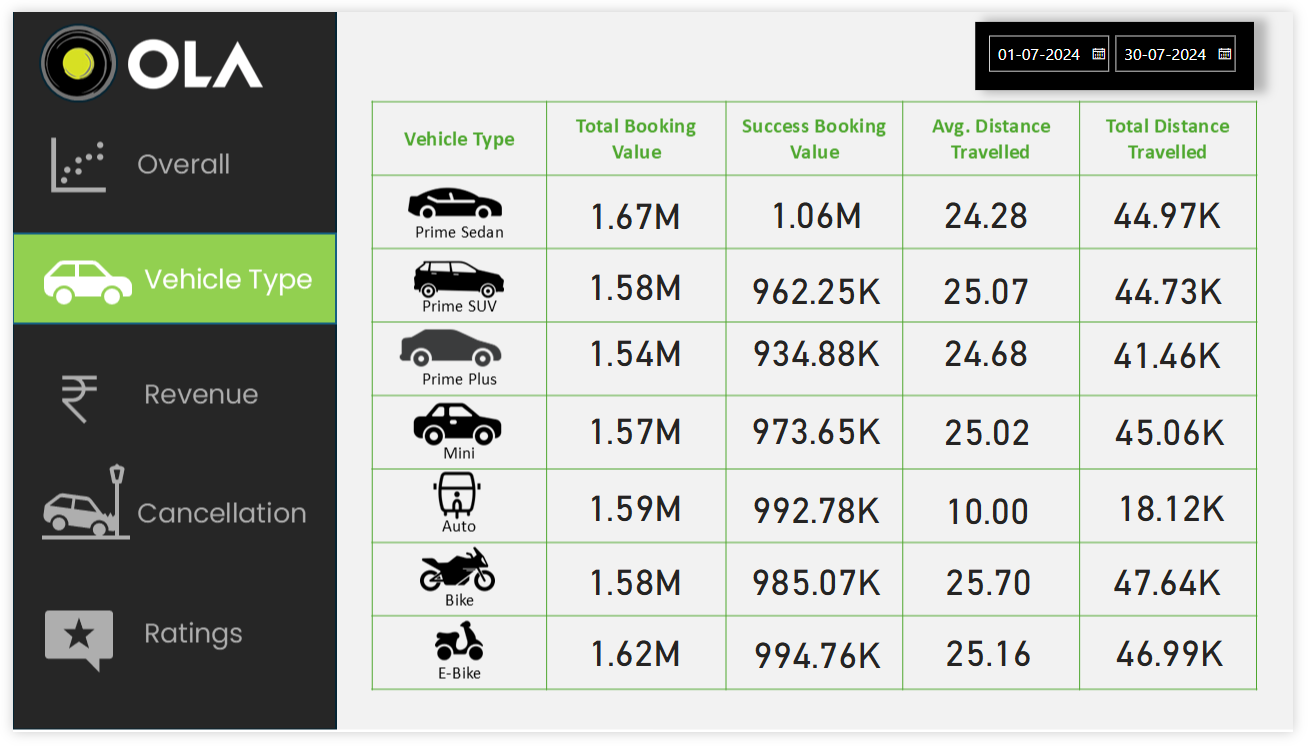

This screenshot's page, from the dashboard's own definition file:
{"tool":"powerbi","page":{"name":"Vehicle Type","canvas":[1280,720],"ordinal":1},"visuals":[{"type":"actionButton","box":[0,338,325.3,89.9],"z":0},{"type":"actionButton","box":[0,579.7,325.3,89.9],"z":1000},{"type":"actionButton","box":[1.3,446.8,325.3,89.9],"z":2000},{"type":"actionButton","box":[1.3,110.1,325.3,89.9],"z":3000},{"type":"card","fields":{"Values":["Sum(July.Booking_Value)"]},"box":[538,169.6,168.4,62],"z":4000},{"type":"card","fields":{"Values":["Sum(July.Booking_Value)"]},"box":[538,241.8,168.4,62],"z":5000},{"type":"card","fields":{"Values":["Sum(July.Booking_Value)"]},"box":[538,607.6,168.4,62],"z":6000},{"type":"card","fields":{"Values":["Sum(July.Booking_Value)"]},"box":[538,536.7,168.4,62],"z":7000},{"type":"card","fields":{"Values":["Sum(July.Booking_Value)"]},"box":[538,462,168.4,62],"z":8000},{"type":"card","fields":{"Values":["Sum(July.Booking_Value)"]},"box":[538,384.8,168.4,62],"z":9000},{"type":"card","fields":{"Values":["Sum(July.Booking_Value)"]},"box":[538,307.6,168.4,62],"z":10000},{"type":"card","fields":{"Values":["Sum(July.Booking_Value)"]},"box":[719,168.4,168.4,62],"z":11000},{"type":"card","fields":{"Values":["Sum(July.Booking_Value)"]},"box":[719,245.6,168.4,62],"z":12000},{"type":"card","fields":{"Values":["Sum(July.Booking_Value)"]},"box":[719,307.6,168.4,62],"z":13000},{"type":"card","fields":{"Values":["Sum(July.Booking_Value)"]},"box":[719,384.8,168.4,62],"z":14000},{"type":"card","fields":{"Values":["Sum(July.Booking_Value)"]},"box":[719,463.3,168.4,62],"z":15000},{"type":"card","fields":{"Values":["Sum(July.Booking_Value)"]},"box":[719,536.7,168.4,62],"z":16000},{"type":"card","fields":{"Values":["Sum(July.Booking_Value)"]},"box":[720.3,608.9,168.4,62],"z":17000},{"type":"card","fields":{"Values":["Avg(July.Ride_Distance)"]},"box":[888.6,168.4,168.4,62],"z":18000},{"type":"card","fields":{"Values":["Avg(July.Ride_Distance)"]},"box":[888.6,245.6,168.4,62],"z":19000},{"type":"card","fields":{"Values":["Avg(July.Ride_Distance)"]},"box":[888.6,307.6,168.4,62],"z":20000},{"type":"card","fields":{"Values":["Avg(July.Ride_Distance)"]},"box":[889.9,386.1,168.4,62],"z":21000},{"type":"card","fields":{"Values":["Avg(July.Ride_Distance)"]},"box":[889.9,464.6,168.4,62],"z":22000},{"type":"card","fields":{"Values":["Avg(July.Ride_Distance)"]},"box":[891.1,536.7,168.4,62],"z":23000},{"type":"card","fields":{"Values":["Avg(July.Ride_Distance)"]},"box":[891.1,607.6,168.4,62],"z":24000},{"type":"card","fields":{"Values":["Sum(July.Ride_Distance)"]},"box":[1069.6,168.4,168.4,62],"z":25000},{"type":"card","fields":{"Values":["Sum(July.Ride_Distance)"]},"box":[1070.9,245.6,168.4,62],"z":26000},{"type":"card","fields":{"Values":["Sum(July.Ride_Distance)"]},"box":[1069.6,308.9,168.4,62],"z":27000},{"type":"card","fields":{"Values":["Sum(July.Ride_Distance)"]},"box":[1072.2,386.1,168.4,62],"z":28000},{"type":"card","fields":{"Values":["Sum(July.Ride_Distance)"]},"box":[1073.4,462,168.4,62],"z":29000},{"type":"card","fields":{"Values":["Sum(July.Ride_Distance)"]},"box":[1069.6,536.7,168.4,62],"z":30000},{"type":"card","fields":{"Values":["Sum(July.Ride_Distance)"]},"box":[1072.2,607.6,168.4,62],"z":31000},{"type":"slicer","title":"Date","fields":{"Values":["July.Date"]},"box":[962,10.1,278.5,68.4],"z":32000}]}

Visuals, with their boxes on the page's 1280x720 design canvas (x1, y1, x2, y2). These are canvas units, not pixel positions in the 1312x746 screenshot, which may show the page scaled, cropped or inside an application window:
actionButton: [x1=0, y1=338, x2=325, y2=428]
actionButton: [x1=0, y1=580, x2=325, y2=670]
actionButton: [x1=1, y1=447, x2=327, y2=537]
actionButton: [x1=1, y1=110, x2=327, y2=200]
card - Sum(July.Booking_Value): [x1=538, y1=170, x2=706, y2=232]
card - Sum(July.Booking_Value): [x1=538, y1=242, x2=706, y2=304]
card - Sum(July.Booking_Value): [x1=538, y1=608, x2=706, y2=670]
card - Sum(July.Booking_Value): [x1=538, y1=537, x2=706, y2=599]
card - Sum(July.Booking_Value): [x1=538, y1=462, x2=706, y2=524]
card - Sum(July.Booking_Value): [x1=538, y1=385, x2=706, y2=447]
card - Sum(July.Booking_Value): [x1=538, y1=308, x2=706, y2=370]
card - Sum(July.Booking_Value): [x1=719, y1=168, x2=887, y2=230]
card - Sum(July.Booking_Value): [x1=719, y1=246, x2=887, y2=308]
card - Sum(July.Booking_Value): [x1=719, y1=308, x2=887, y2=370]
card - Sum(July.Booking_Value): [x1=719, y1=385, x2=887, y2=447]
card - Sum(July.Booking_Value): [x1=719, y1=463, x2=887, y2=525]
card - Sum(July.Booking_Value): [x1=719, y1=537, x2=887, y2=599]
card - Sum(July.Booking_Value): [x1=720, y1=609, x2=889, y2=671]
card - Avg(July.Ride_Distance): [x1=889, y1=168, x2=1057, y2=230]
card - Avg(July.Ride_Distance): [x1=889, y1=246, x2=1057, y2=308]
card - Avg(July.Ride_Distance): [x1=889, y1=308, x2=1057, y2=370]
card - Avg(July.Ride_Distance): [x1=890, y1=386, x2=1058, y2=448]
card - Avg(July.Ride_Distance): [x1=890, y1=465, x2=1058, y2=527]
card - Avg(July.Ride_Distance): [x1=891, y1=537, x2=1060, y2=599]
card - Avg(July.Ride_Distance): [x1=891, y1=608, x2=1060, y2=670]
card - Sum(July.Ride_Distance): [x1=1070, y1=168, x2=1238, y2=230]
card - Sum(July.Ride_Distance): [x1=1071, y1=246, x2=1239, y2=308]
card - Sum(July.Ride_Distance): [x1=1070, y1=309, x2=1238, y2=371]
card - Sum(July.Ride_Distance): [x1=1072, y1=386, x2=1241, y2=448]
card - Sum(July.Ride_Distance): [x1=1073, y1=462, x2=1242, y2=524]
card - Sum(July.Ride_Distance): [x1=1070, y1=537, x2=1238, y2=599]
card - Sum(July.Ride_Distance): [x1=1072, y1=608, x2=1241, y2=670]
"Date" slicer: [x1=962, y1=10, x2=1240, y2=78]
